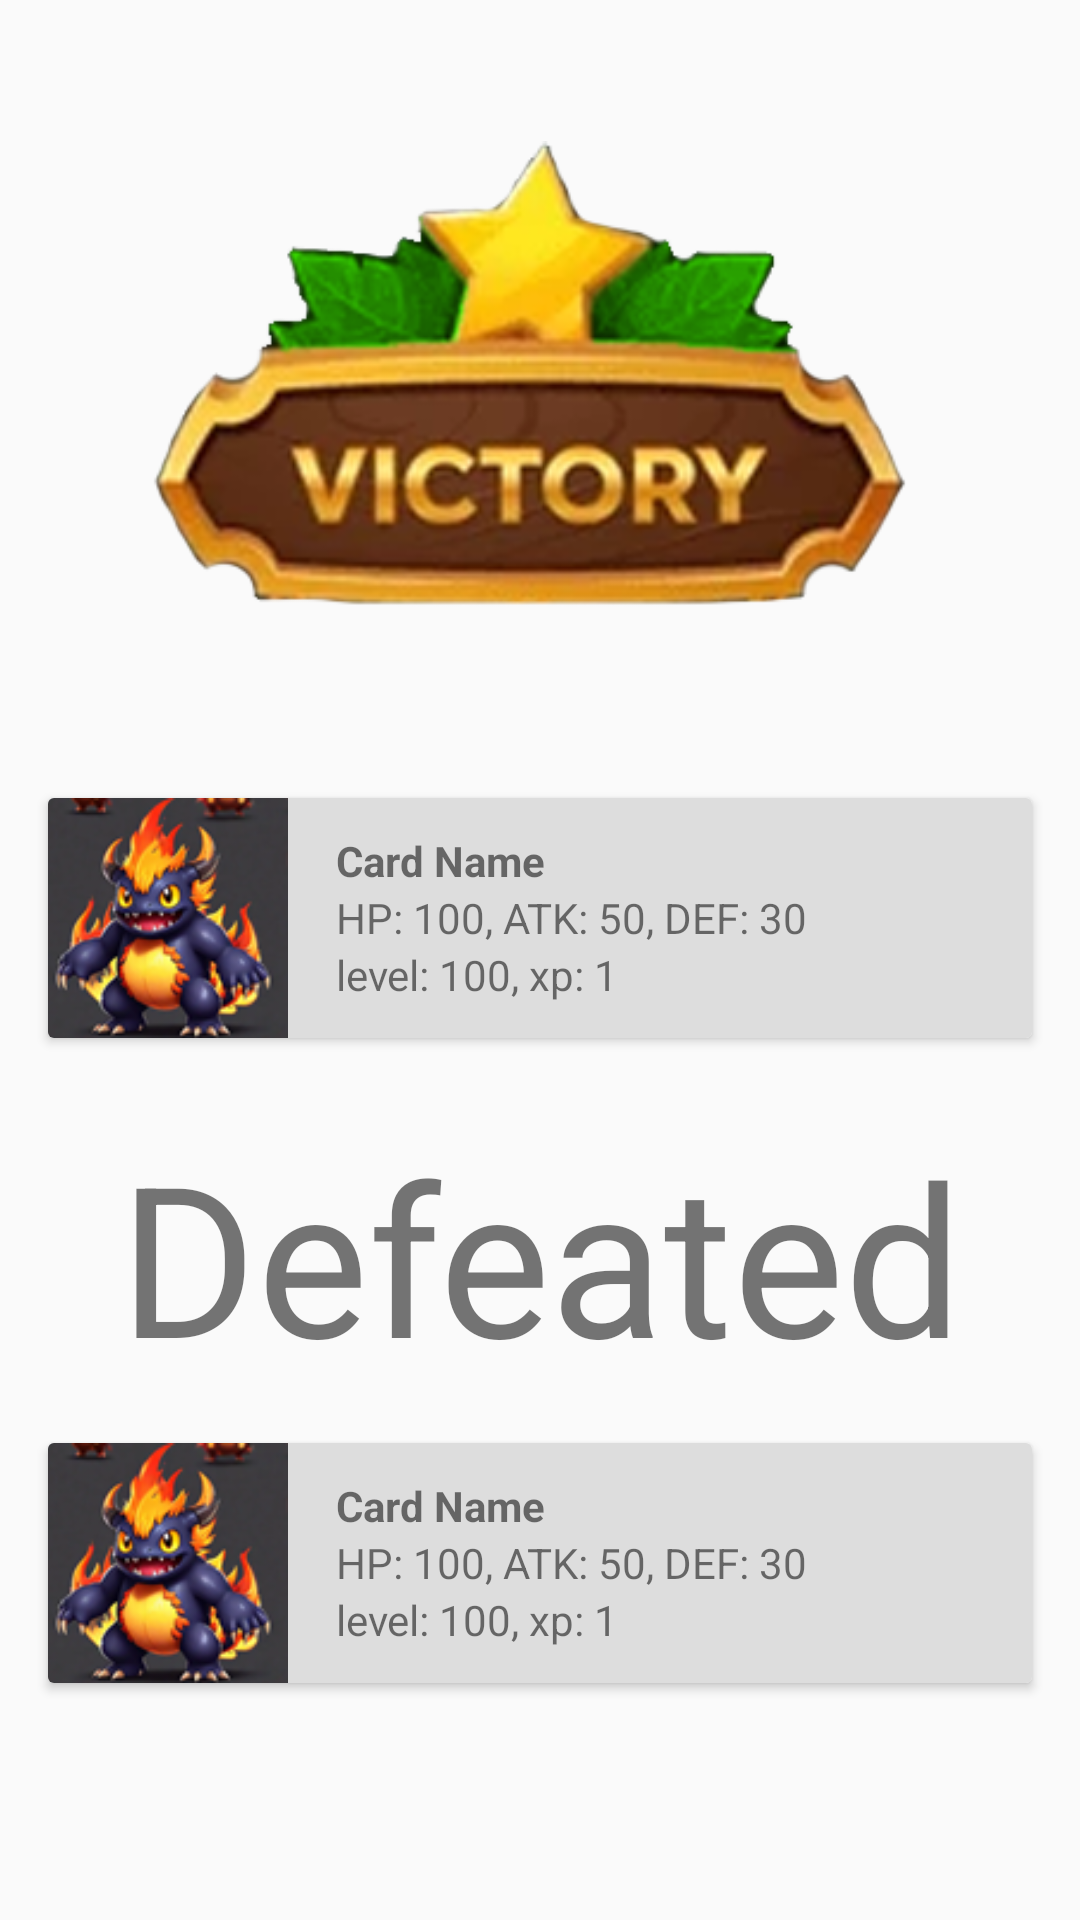

Where to tap for icons on this 1080px x 1920px app screen, as (x,y):
Monster Image: (168,918), (168,1563)
